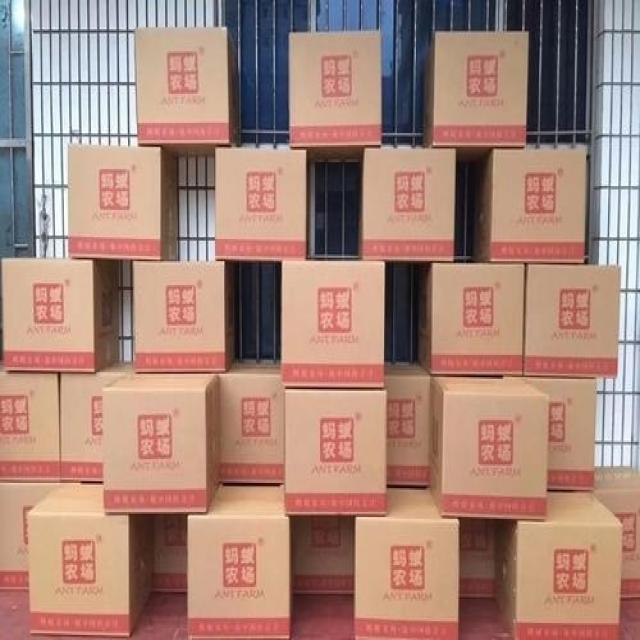box: (30, 481, 153, 638), (497, 489, 621, 638), (100, 372, 220, 514), (429, 376, 547, 519), (187, 481, 291, 638), (354, 485, 458, 638), (1, 257, 119, 373), (281, 260, 385, 390), (134, 29, 238, 158), (284, 386, 388, 515), (424, 32, 528, 160), (68, 144, 179, 261), (476, 148, 586, 264), (418, 261, 526, 377), (289, 31, 381, 162), (133, 259, 237, 371), (523, 262, 621, 376), (359, 147, 456, 262), (215, 147, 307, 261), (58, 359, 133, 482), (523, 376, 596, 490), (220, 359, 286, 483), (1, 371, 61, 483), (0, 483, 61, 593), (385, 367, 432, 486), (592, 490, 639, 601), (289, 515, 355, 594), (458, 516, 498, 599), (152, 513, 188, 592)
